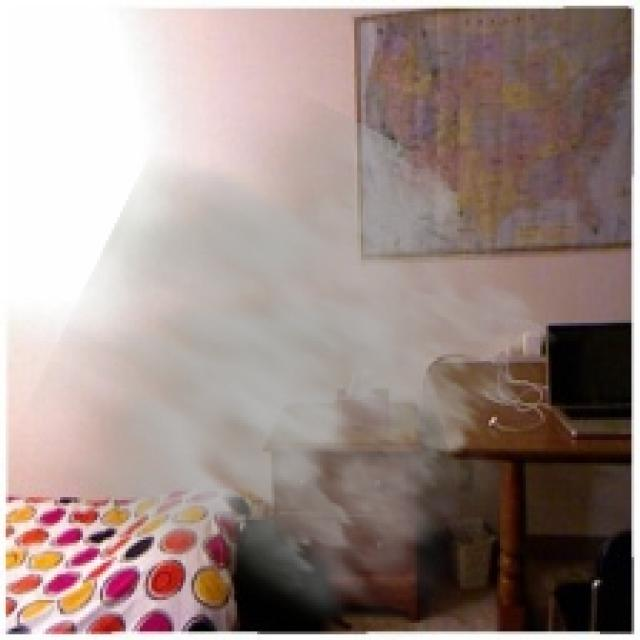smoke: (0, 86, 563, 637)
